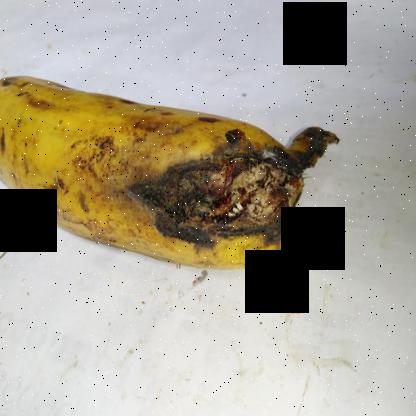rotten: (117, 92, 346, 284)
